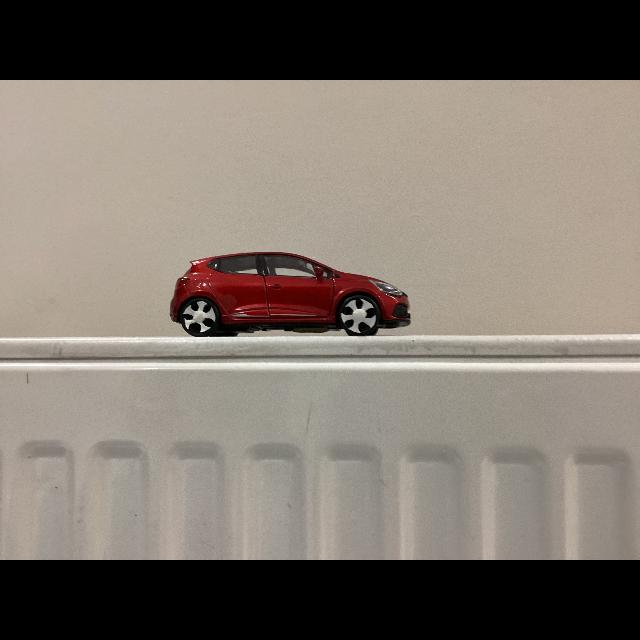Yanlis_Jant: (340, 298, 376, 334), (182, 300, 216, 334)
